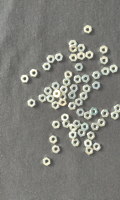nut: (100, 46, 109, 55), (55, 53, 64, 62), (53, 90, 62, 99), (75, 98, 84, 107), (84, 25, 92, 34), (70, 44, 78, 53), (86, 51, 94, 60), (70, 54, 79, 62), (47, 55, 56, 63), (101, 56, 109, 65), (110, 65, 119, 73), (75, 63, 84, 71), (30, 69, 39, 77), (93, 71, 101, 80), (74, 75, 82, 84), (63, 78, 71, 87), (70, 85, 79, 93), (60, 86, 69, 94), (52, 82, 60, 91), (44, 87, 53, 95), (80, 92, 88, 101), (68, 92, 77, 100), (39, 94, 47, 103), (28, 99, 36, 108), (59, 98, 67, 107), (52, 101, 60, 110), (90, 108, 99, 116), (101, 110, 110, 118), (111, 112, 120, 120), (98, 119, 107, 127), (91, 123, 100, 131), (52, 121, 61, 129), (78, 44, 86, 52), (78, 52, 86, 60), (43, 63, 51, 71), (21, 75, 29, 83), (102, 68, 110, 76), (65, 71, 73, 79), (82, 75, 90, 83), (93, 82, 101, 90), (83, 85, 91, 93), (47, 95, 55, 103), (69, 102, 77, 110), (77, 109, 85, 117), (62, 114, 70, 122), (73, 120, 81, 128), (70, 124, 78, 132), (88, 132, 96, 140), (72, 139, 80, 147), (50, 136, 58, 144), (85, 140, 93, 148), (93, 143, 101, 151), (86, 147, 94, 155), (52, 146, 60, 154), (43, 158, 51, 166), (82, 123, 89, 132), (70, 131, 77, 140), (85, 112, 92, 120), (63, 121, 71, 128), (78, 130, 86, 137), (69, 40, 78, 46), (59, 94, 67, 100), (115, 105, 120, 113)
